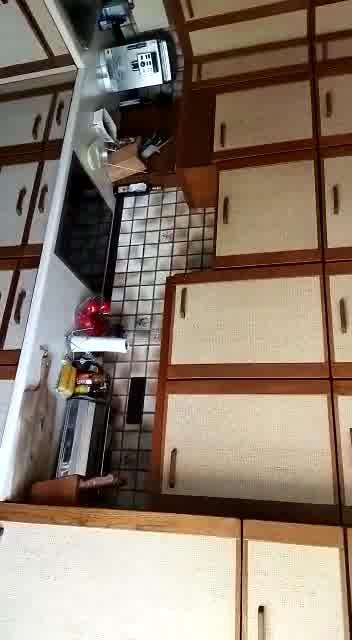cabinet_door: (0, 517, 243, 640), (164, 383, 340, 513), (169, 273, 330, 382), (243, 519, 351, 640), (213, 161, 323, 265), (212, 84, 320, 154), (0, 89, 53, 157), (322, 150, 352, 259), (0, 158, 34, 254), (328, 259, 352, 380), (9, 264, 32, 346), (37, 164, 55, 246), (52, 90, 73, 150)
handle: (12, 284, 33, 330), (29, 106, 48, 145), (336, 293, 352, 339), (218, 193, 235, 233), (329, 181, 344, 224), (13, 180, 28, 222), (52, 96, 68, 134), (176, 282, 190, 324), (36, 177, 50, 215), (168, 444, 179, 491), (322, 86, 335, 122), (218, 116, 229, 152), (255, 602, 265, 640)
